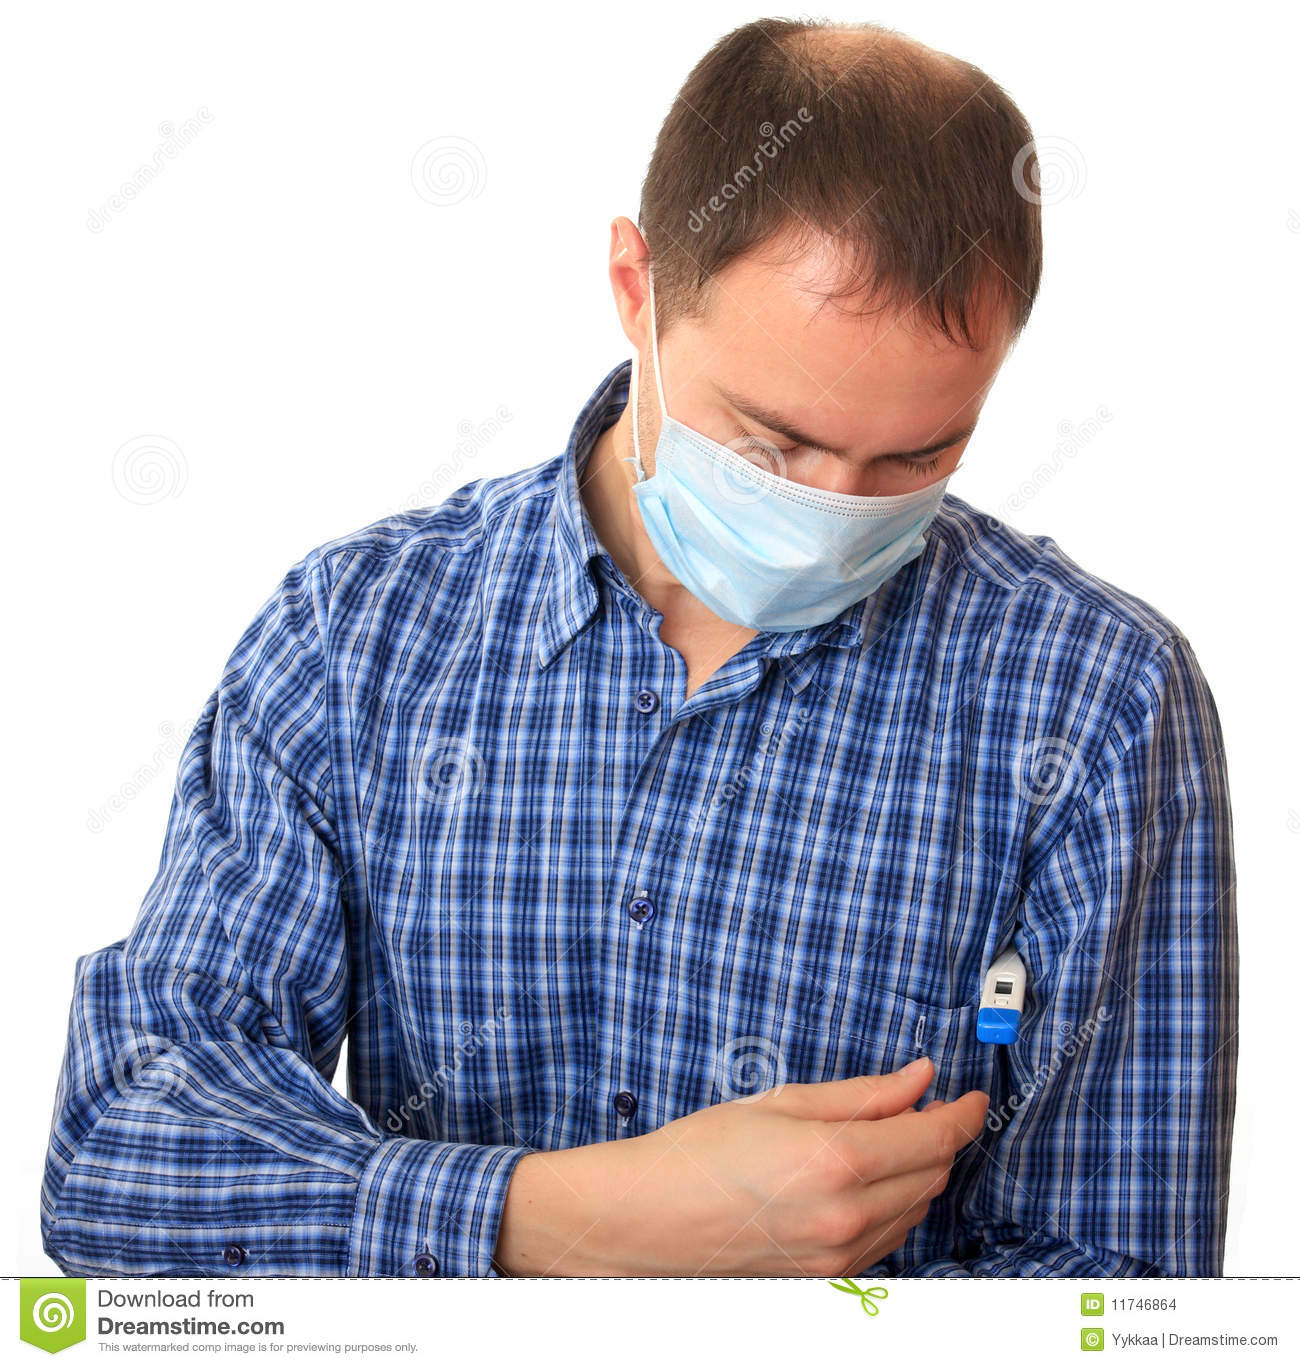mask: (623, 428, 948, 624)
